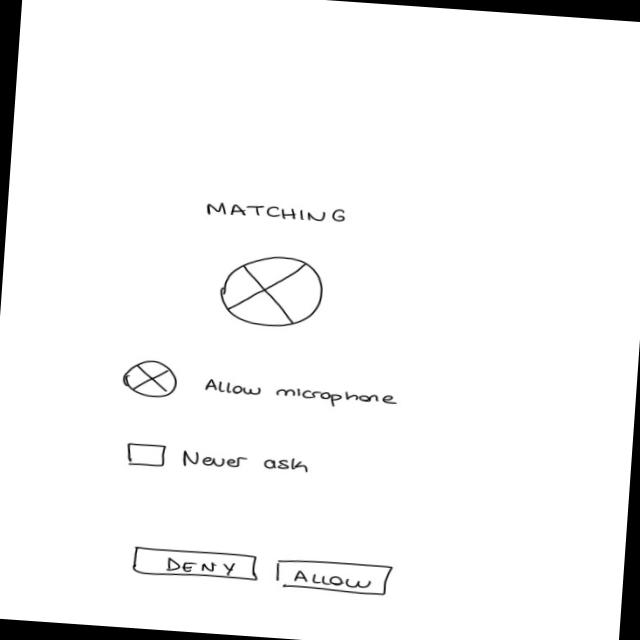button: (272, 557, 397, 599), (130, 545, 262, 584)
checkbox: (125, 440, 316, 480)
image: (217, 251, 327, 333), (121, 359, 181, 400)
label: (203, 378, 403, 414), (205, 198, 350, 226)
